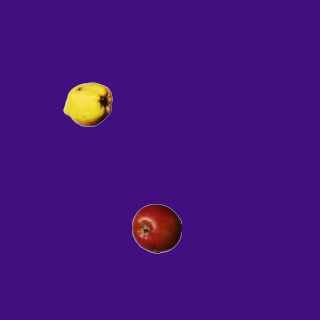Apple Braeburn: (131, 203, 181, 253)
Quince: (62, 79, 112, 129)
